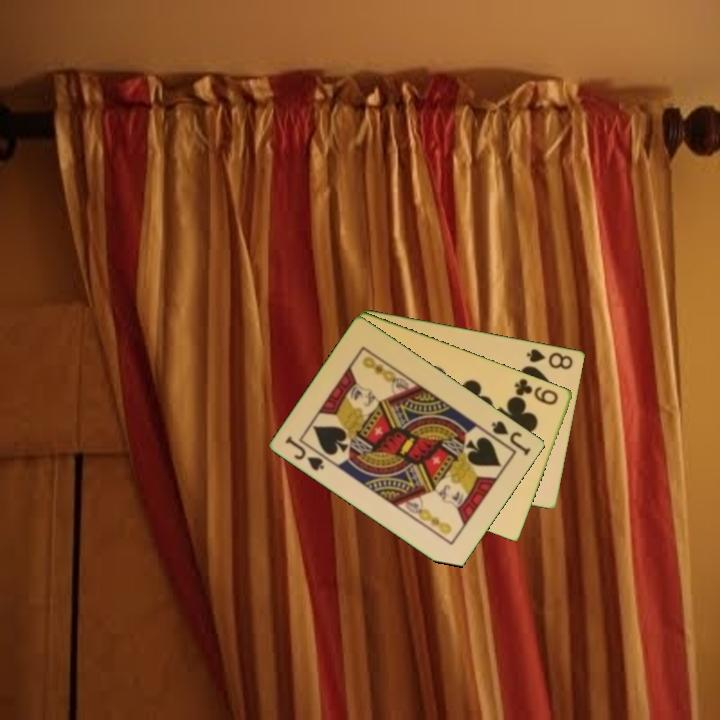8s: (523, 345, 576, 372)
9c: (511, 375, 561, 408)
Js: (488, 417, 534, 459), (282, 432, 327, 474)
